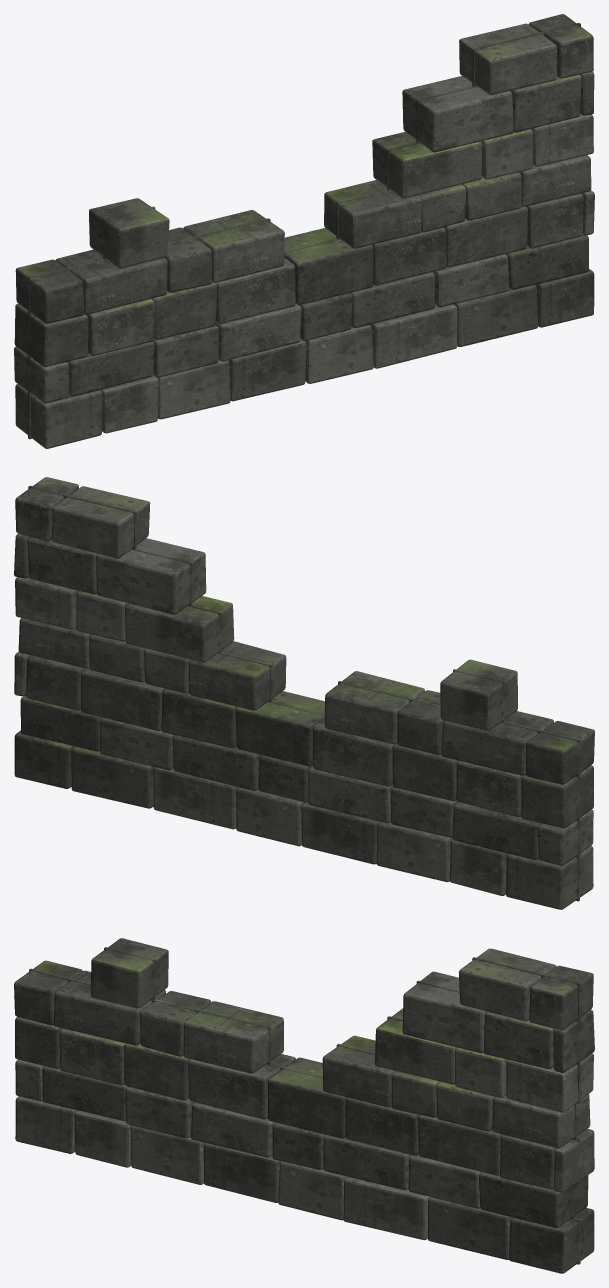
Rendered from ER_Mur_Ruine_Haut_8m.gltf.
The picture shows the model from 3 angles, top to bottom: view 1: azimuth 30°, elevation 25°; view 2: azimuth 150°, elevation 25°; view 3: azimuth 330°, elevation 25°; orthographic projection.
Visible parts, largest first — view 1: ER_Mur_Ruine_Haut_8m_P.001, ER_Mur_Ruine_Haut_8m_PS.001; view 2: ER_Mur_Ruine_Haut_8m_P.001, ER_Mur_Ruine_Haut_8m_PS.001; view 3: ER_Mur_Ruine_Haut_8m_P.001, ER_Mur_Ruine_Haut_8m_PS.001.
Part boxes in pixels (x1,y1,x2,y2): ER_Mur_Ruine_Haut_8m_P.001: (14, 14, 594, 448); ER_Mur_Ruine_Haut_8m_PS.001: (28, 23, 580, 439); ER_Mur_Ruine_Haut_8m_P.001: (14, 477, 594, 909); ER_Mur_Ruine_Haut_8m_PS.001: (28, 485, 579, 901); ER_Mur_Ruine_Haut_8m_P.001: (14, 938, 594, 1273); ER_Mur_Ruine_Haut_8m_PS.001: (29, 947, 580, 1264).
Size of the model in its own units: 8.01 by 3.9 by 0.8465.
2 materials, 2 textured.
